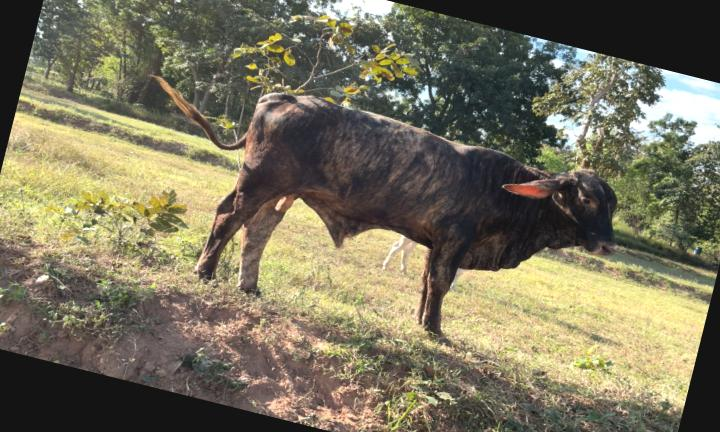Charolais: (160, 81, 617, 339)
